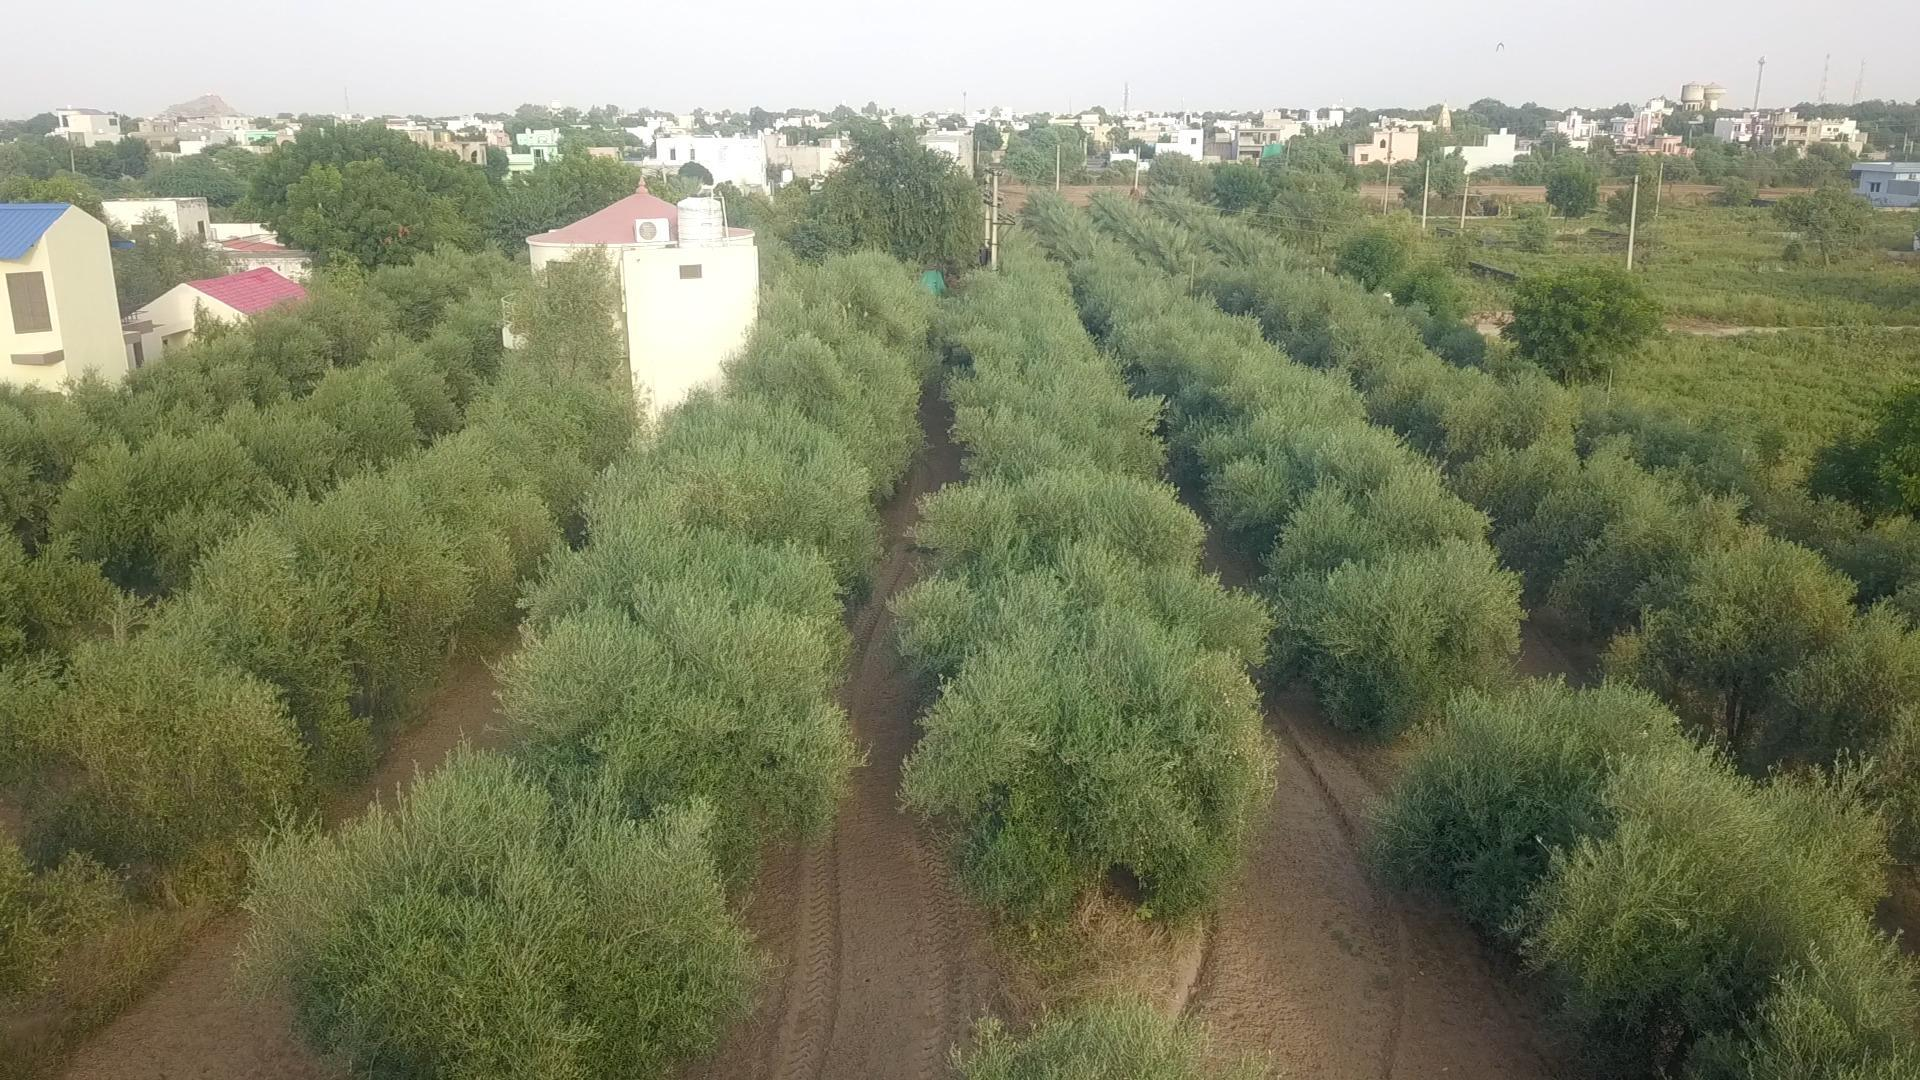canopy: (301, 251, 1271, 1076), (1088, 195, 1919, 770), (0, 269, 636, 989), (1068, 252, 1523, 737), (1370, 679, 1919, 1079)
road: (683, 392, 1000, 1079), (61, 663, 495, 1079), (1172, 698, 1557, 1079)
